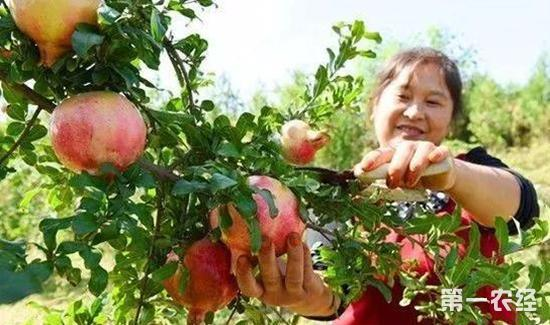apple: (49, 89, 147, 179), (214, 176, 307, 256), (9, 1, 99, 68), (162, 236, 241, 309)
